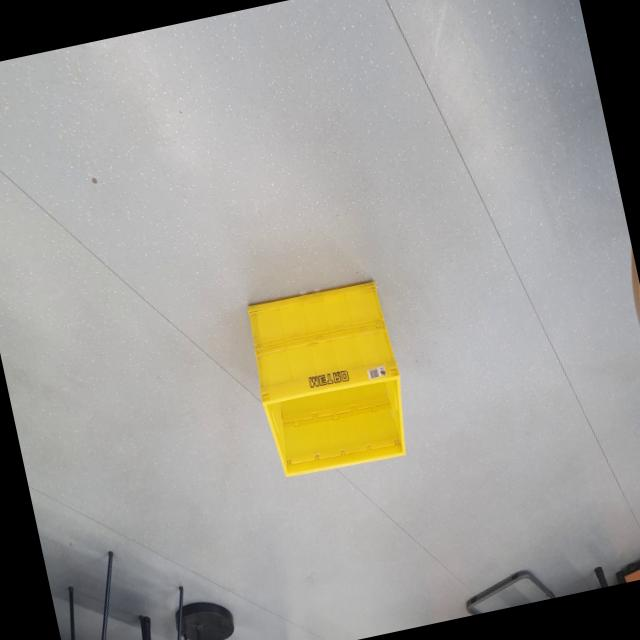box: (225, 251, 428, 504)
